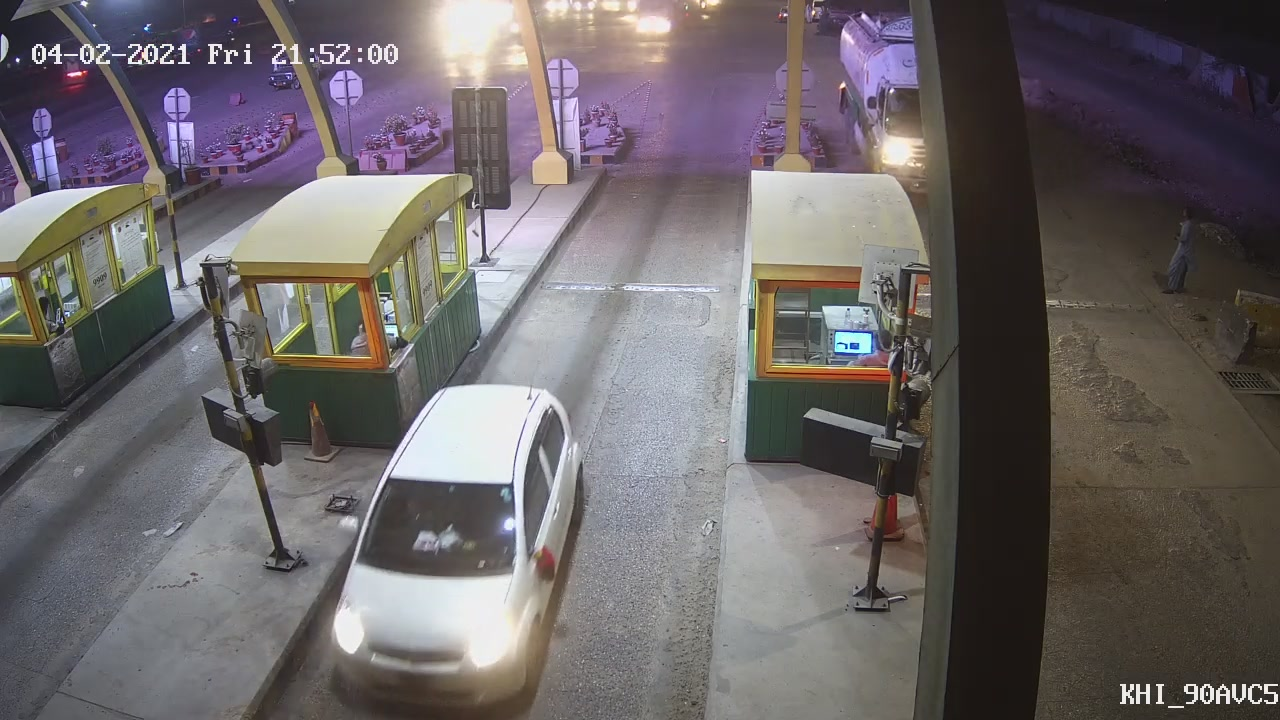F1: (320, 376, 590, 707)
